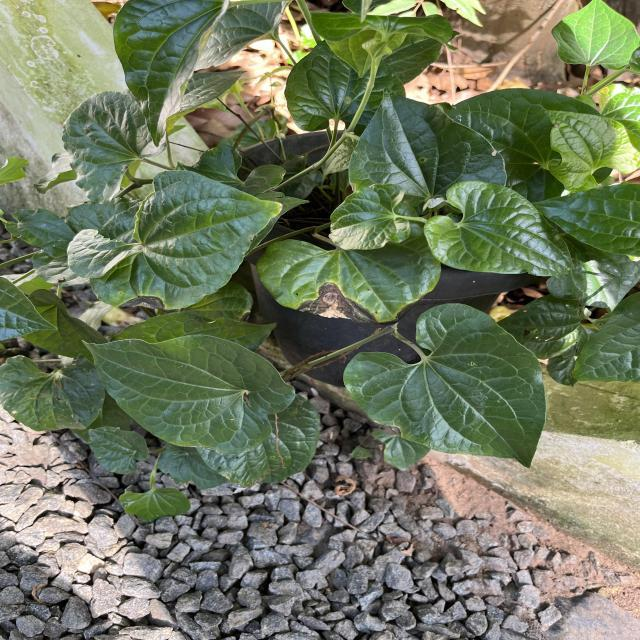Piper longum: (342, 300, 548, 470), (78, 333, 298, 456), (346, 84, 509, 191), (422, 178, 576, 278), (550, 0, 640, 71)
